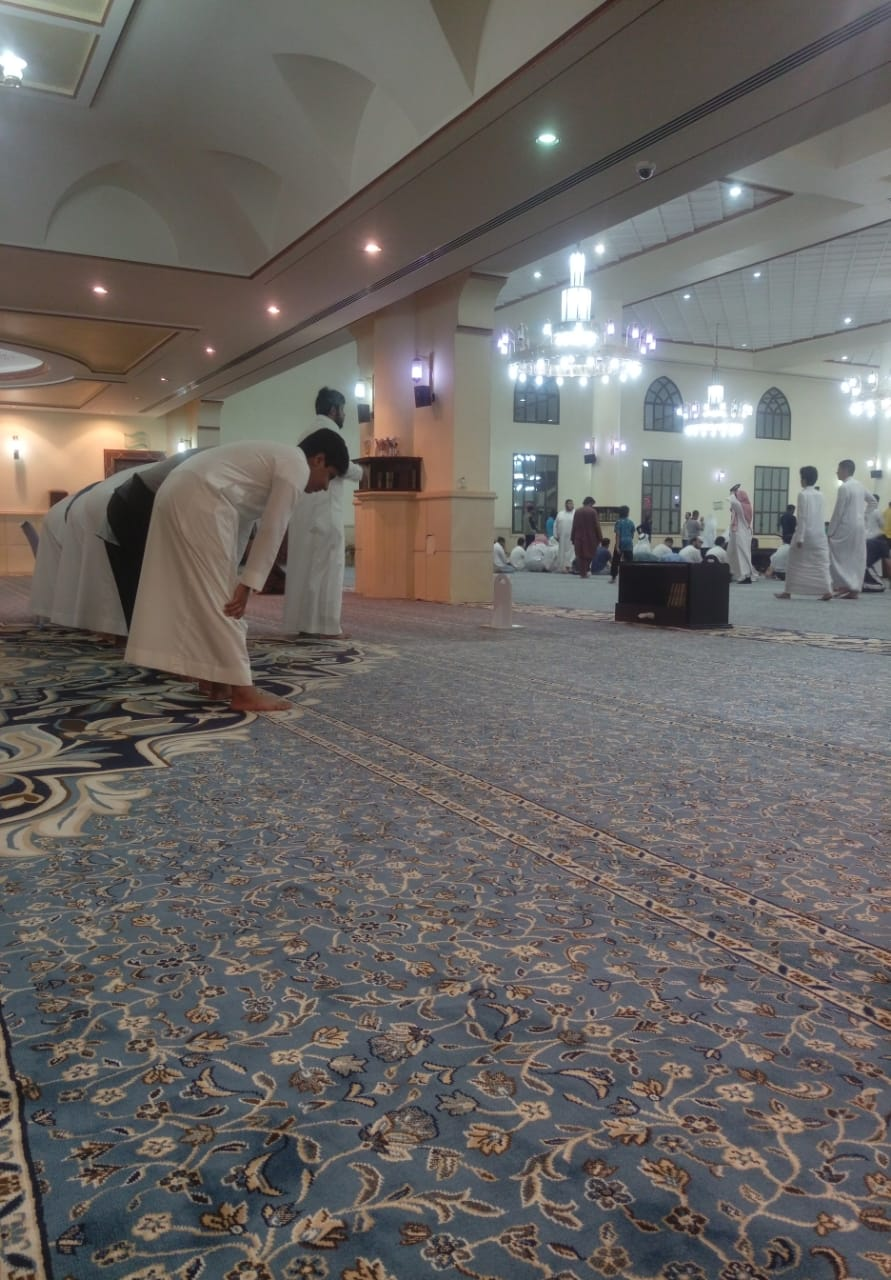ruku: (154, 433, 373, 724)
